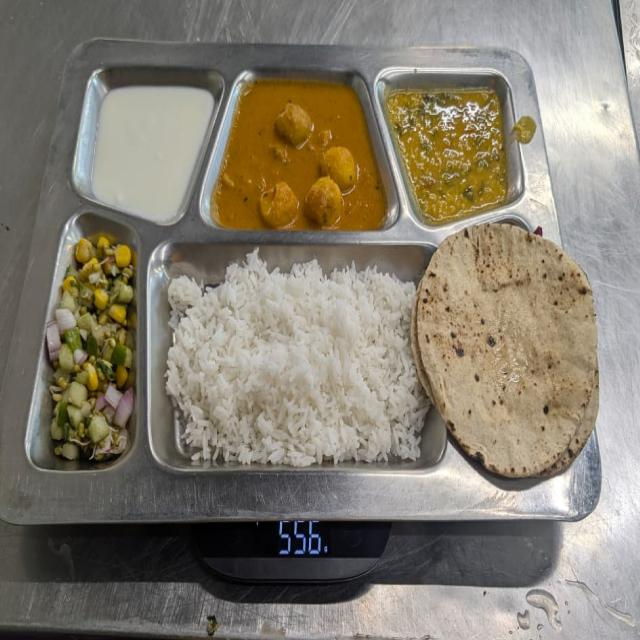Chapati: (414, 225, 602, 480)
Curd: (90, 85, 216, 222)
Dal: (392, 85, 523, 224)
Dum aloo: (220, 67, 390, 234)
Salad: (46, 225, 140, 471)
White Rice: (167, 254, 414, 470)
